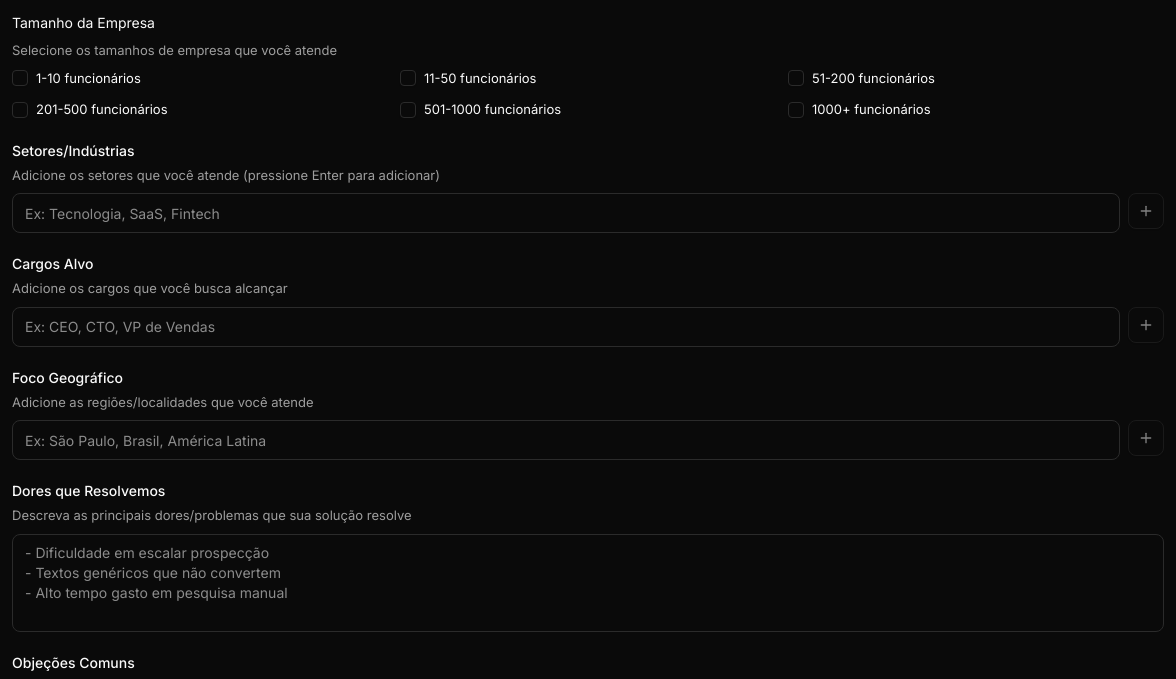
Test: ICPDefinitionForm › Tag Input › should add job title tag on Enter key
Type "VP Vendas" into the field with placeholder "Ex: CEO, CTO, VP de Vendas" at (566, 326), box [12,306,1120,346]
Then press Enter
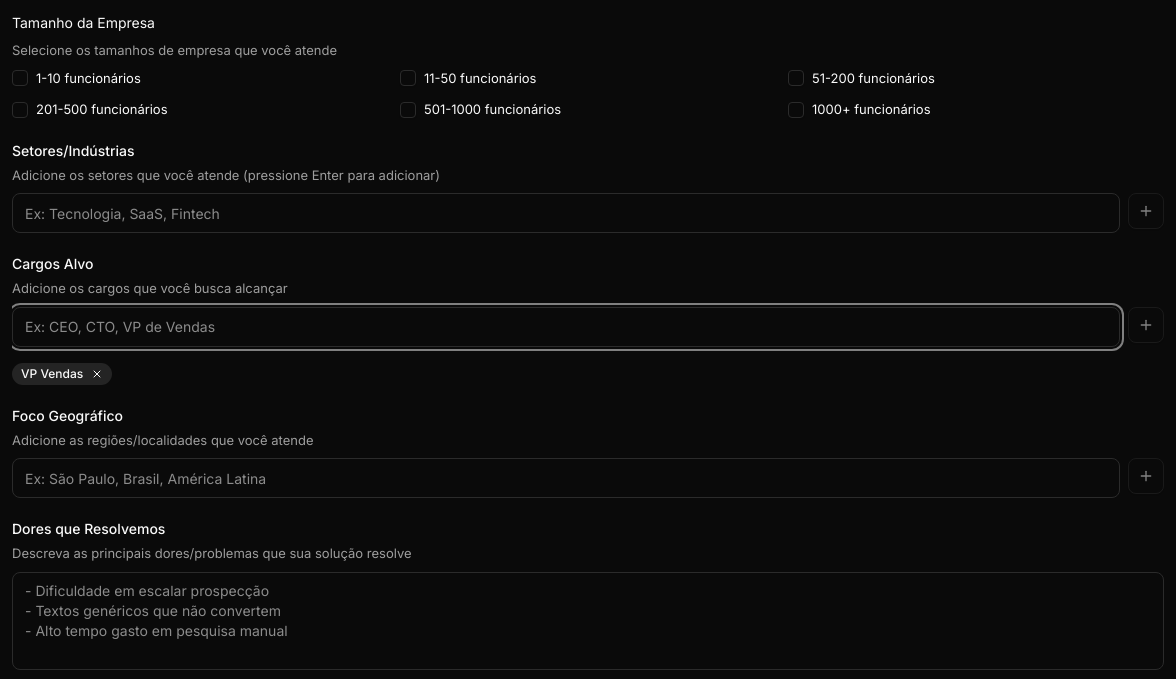
Result: the text "VP Vendas" is shown at [12,362,112,384]
